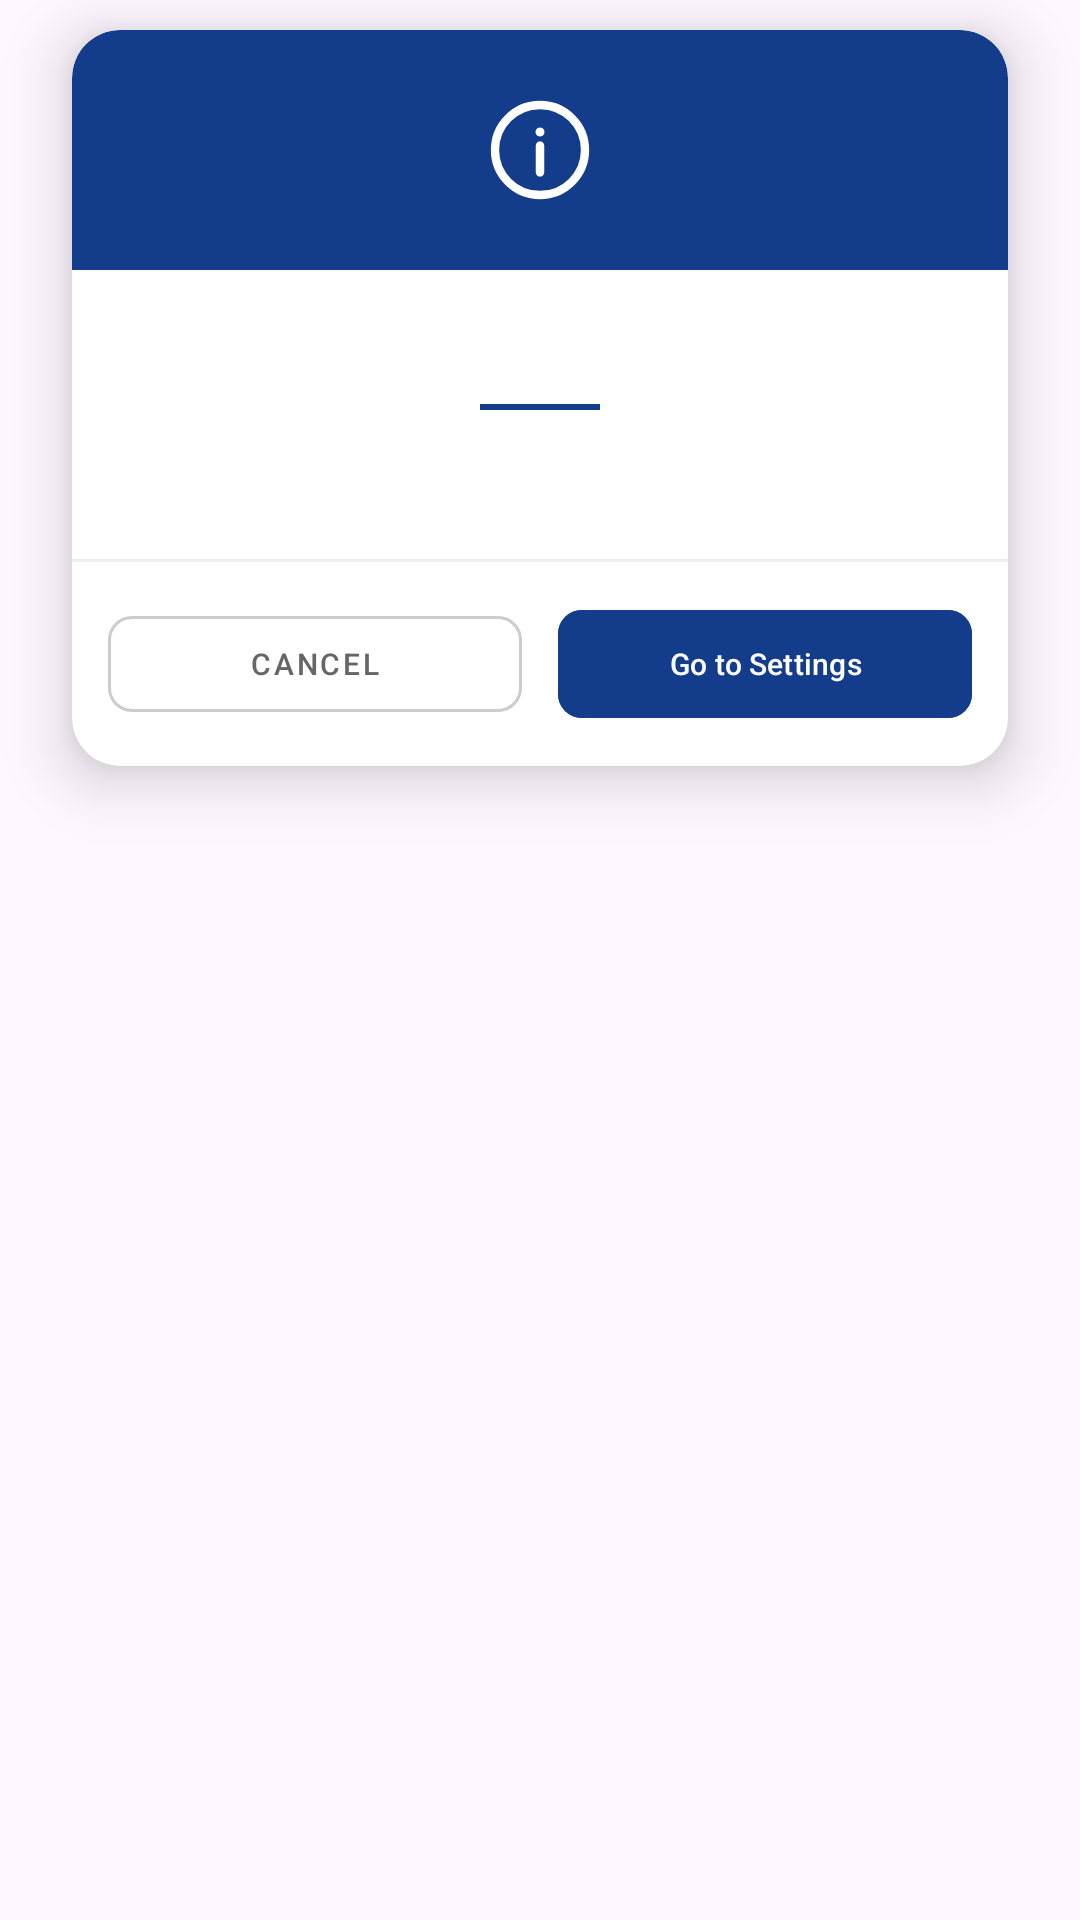

Screen size 1080w x 1920h. Icon name, then its center in pixels as (x=x, y=y):
circle info: (x=540, y=150)
